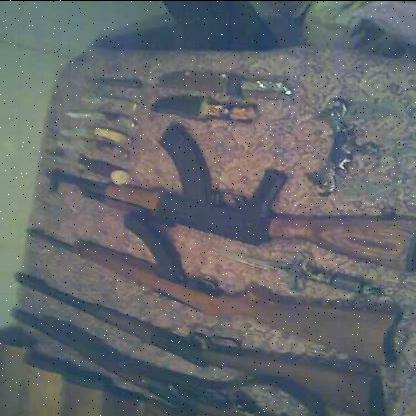rifle: (38, 89, 415, 268), (18, 204, 415, 363), (1, 263, 392, 416), (5, 299, 286, 416)
